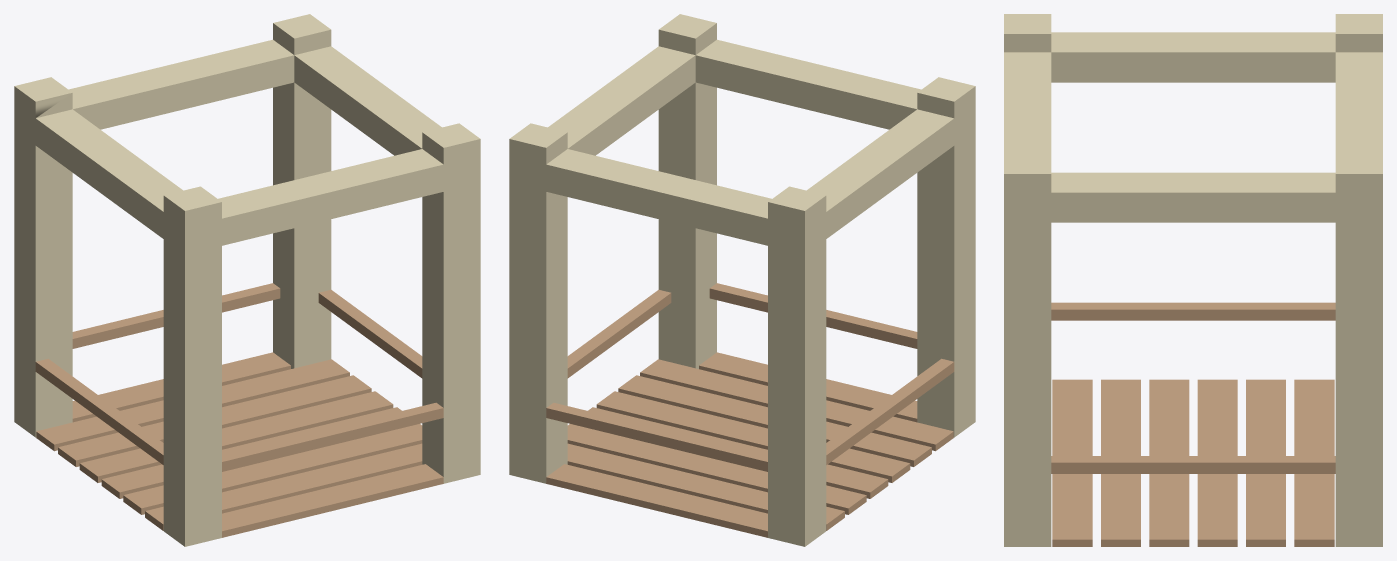
The model's file is 1level.obj.
3 views of the same model, side by side, from view 1: azimuth 30°, elevation 25°; view 2: azimuth 150°, elevation 25°; view 3: azimuth 270°, elevation 25° (orthographic). The views are drawn at different scales.
Visible parts, largest first — view 1: towerSquareMidOpen.004; view 2: towerSquareMidOpen.004; view 3: towerSquareMidOpen.004.
Part boxes in pixels (x1=…): towerSquareMidOpen.004: x1=14, y1=14, x2=480, y2=546; towerSquareMidOpen.004: x1=509, y1=14, x2=975, y2=546; towerSquareMidOpen.004: x1=1004, y1=14, x2=1382, y2=546.
Bounding box in the file's own units: 9.3 × 10.1 × 9.3.
